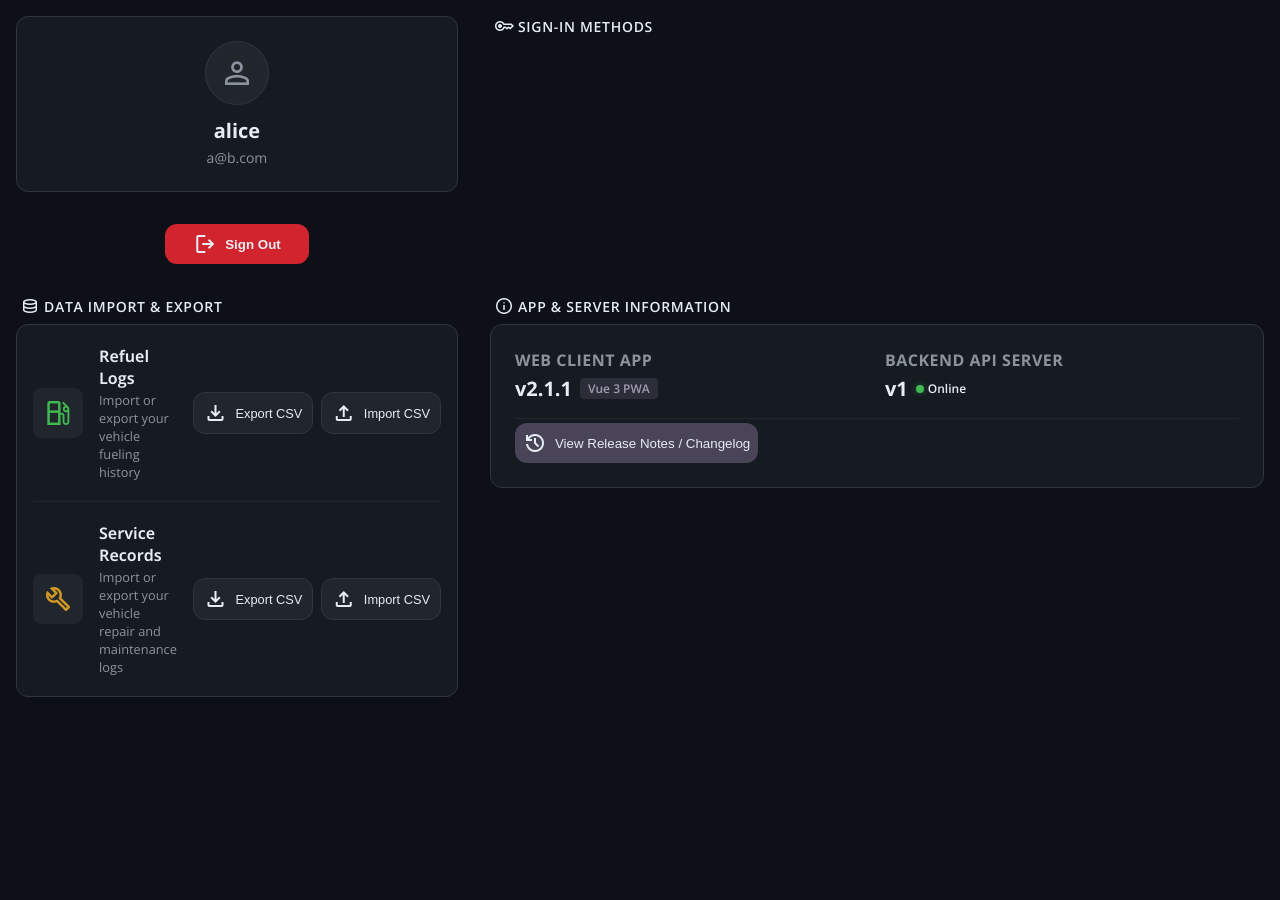
SettingsView › export › group 0 reports export failures
The width and height of the screenshot is (1280, 900).
Click the button "Export CSV" below "Refuel Logs" at (253, 413), box [193,392,313,434]
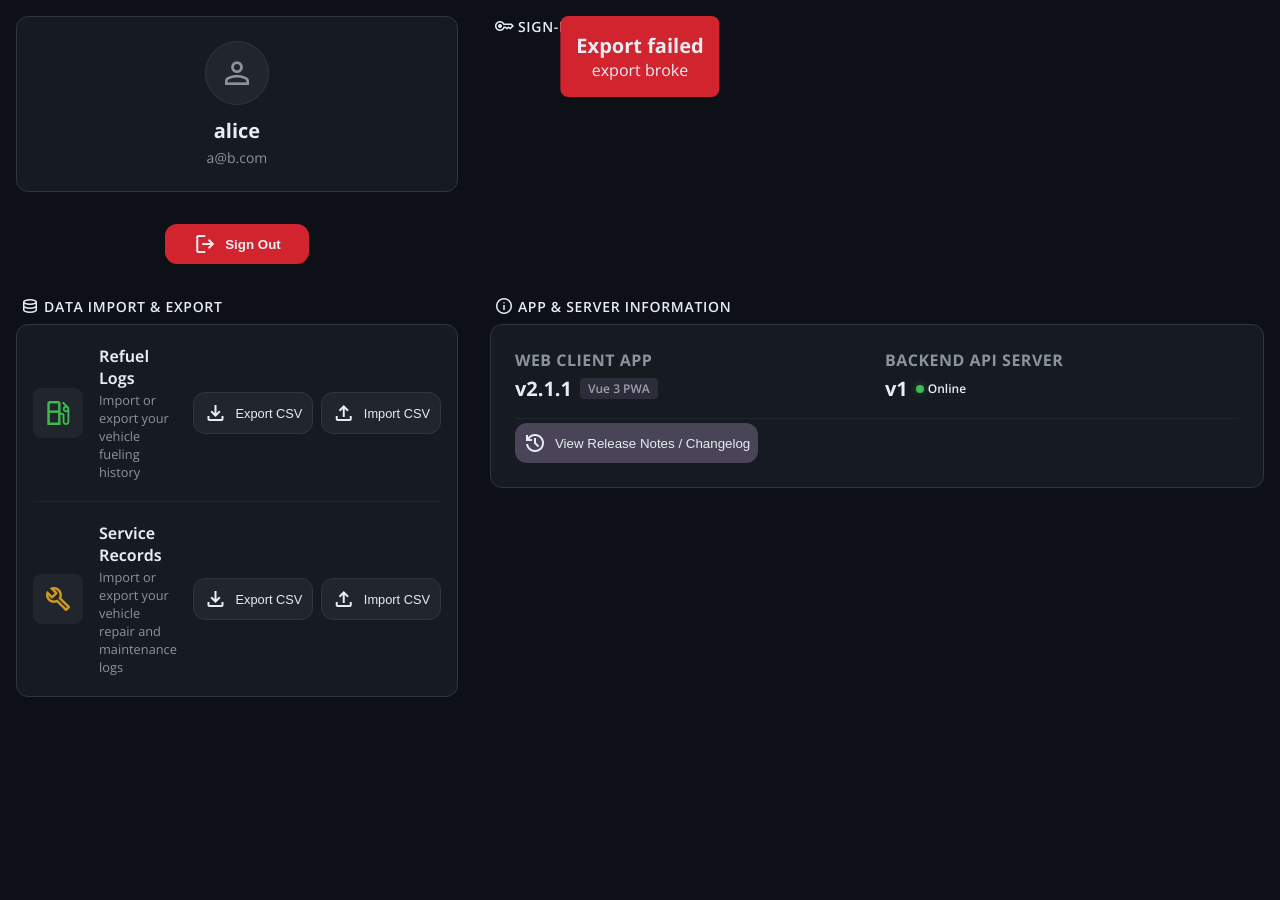
Expected: the element with class "app-dialog" shows "Export failed", [576,32,704,59]
Expected: the element with class "app-dialog" shows "export broke", [592,59,688,81]
